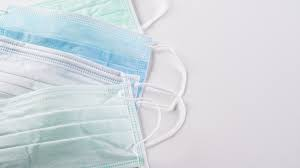flumask: (3, 84, 149, 167)
